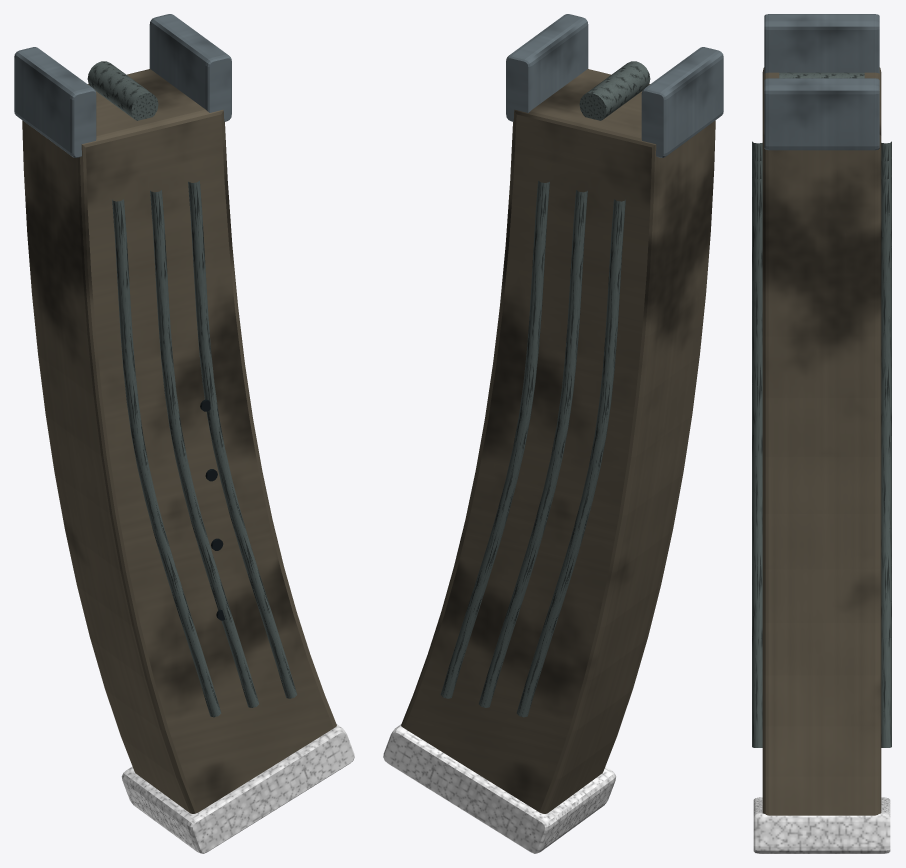
3 views of the same model, side by side, from view 1: azimuth 30°, elevation 25°; view 2: azimuth 150°, elevation 25°; view 3: azimuth 270°, elevation 25° (orthographic). The views are drawn at different scales.
Visible parts, largest first — view 1: machined receiver, edge hardware, brushed steel, vulcanized grip; view 2: machined receiver, edge hardware, brushed steel, vulcanized grip; view 3: machined receiver, brushed steel, edge hardware, vulcanized grip.
Part boxes in pixels (bbox=[...]): machined receiver: bbox=[22, 69, 336, 813]; edge hardware: bbox=[87, 61, 297, 717]; brushed steel: bbox=[14, 14, 231, 157]; vulcanized grip: bbox=[121, 724, 354, 853]; machined receiver: bbox=[401, 69, 715, 813]; edge hardware: bbox=[440, 61, 650, 717]; brushed steel: bbox=[506, 14, 723, 157]; vulcanized grip: bbox=[383, 724, 616, 853]; machined receiver: bbox=[762, 67, 881, 815]; brushed steel: bbox=[764, 14, 879, 150]; edge hardware: bbox=[752, 72, 891, 747]; vulcanized grip: bbox=[753, 797, 890, 853].
Size of the model in its own units: 0.1027 by 0.2778 by 0.046.
Materials: 5 (4 with a texture image).
